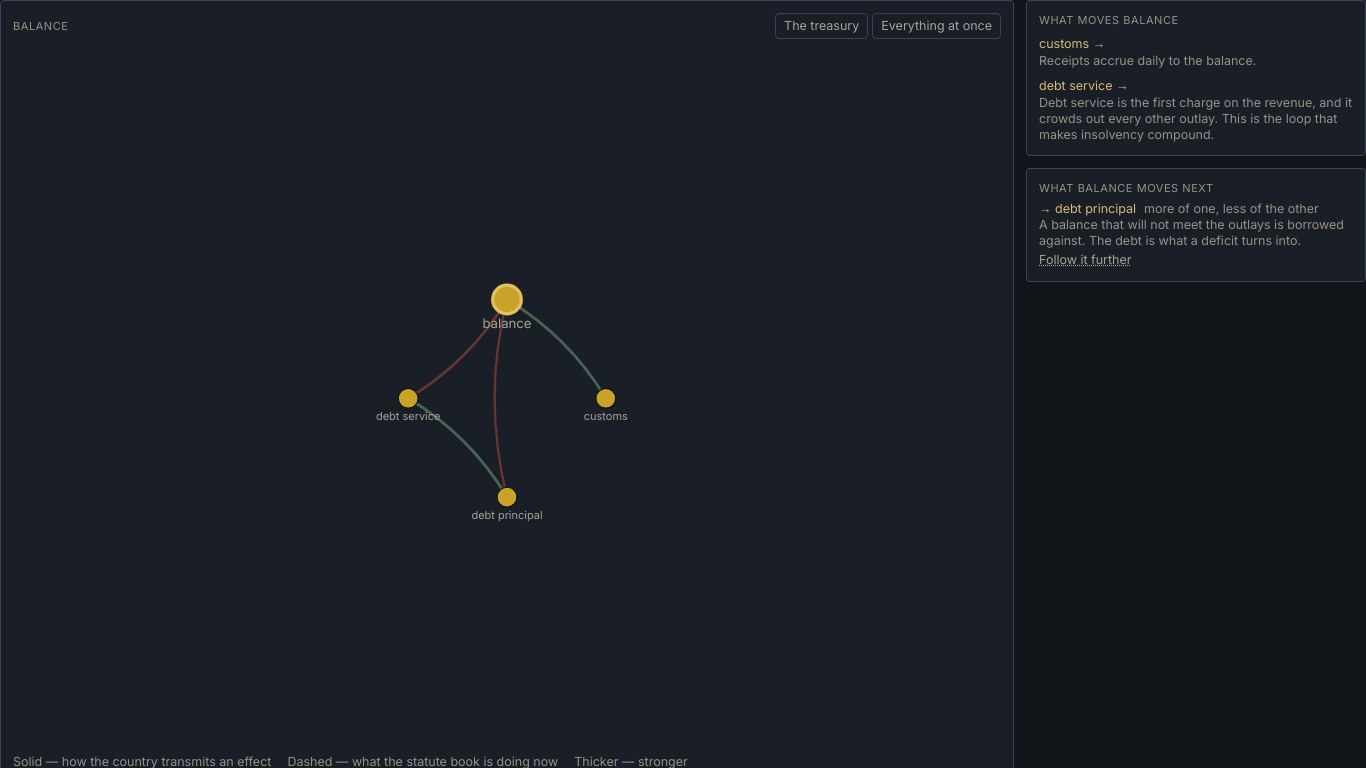
the web opens focused, not as a hairball › walks upstream and downstream by clicking
Click the button "→ debt principal" at x=1088, y=209, box [1039,201,1136,217]
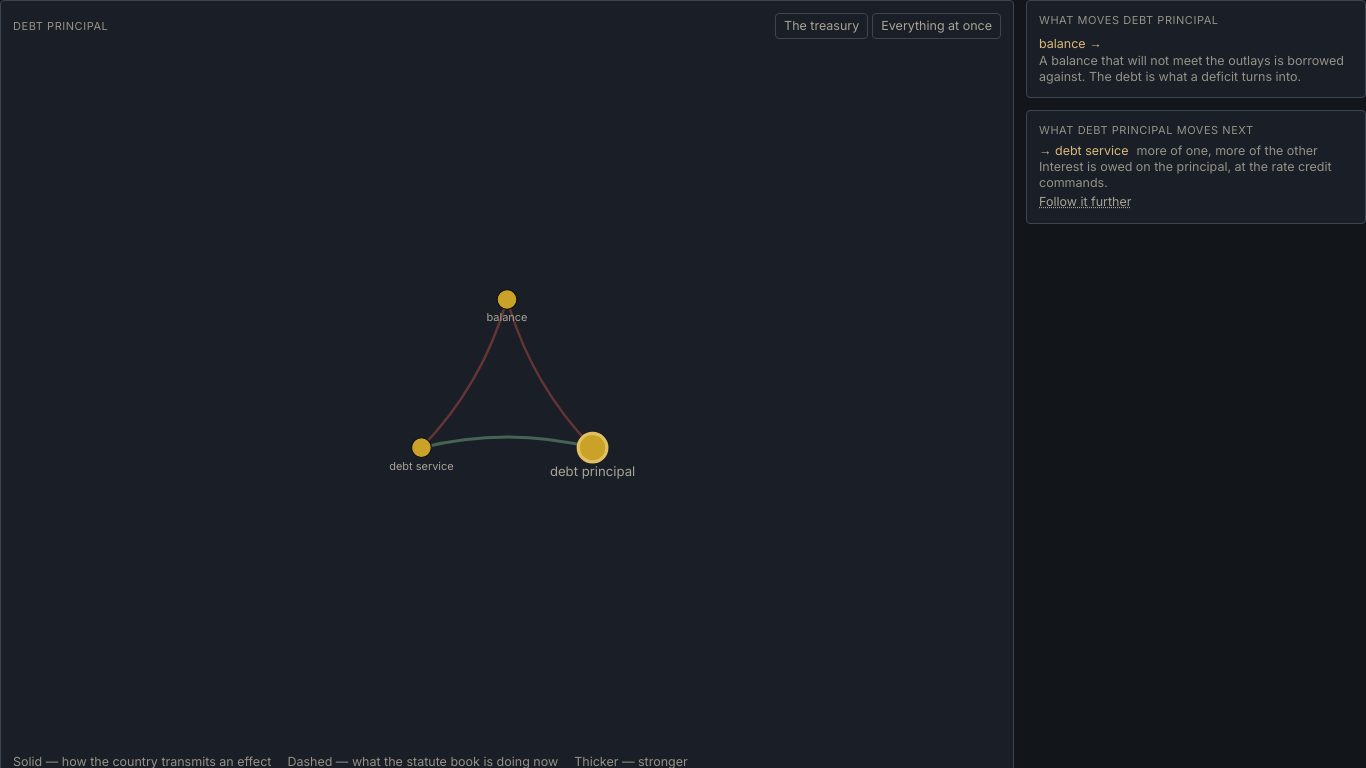
Result: the element with test id "causes" shows "debt principal" at [1123,13,1219,27]
